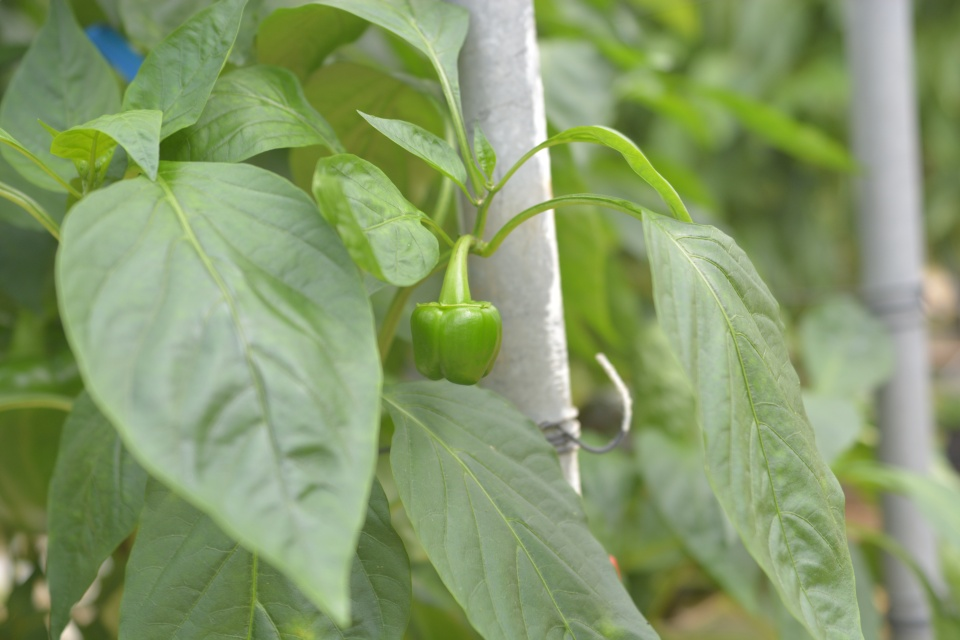immature: (407, 295, 505, 390)
